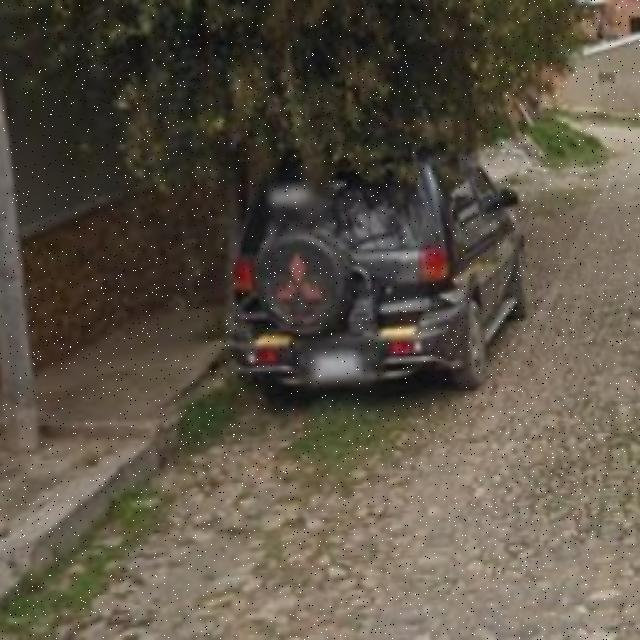cars: (235, 133, 540, 400)
